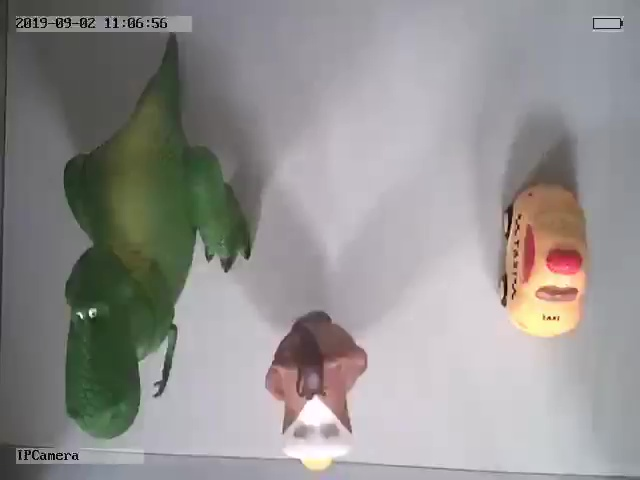car: (499, 182, 589, 338)
horse: (265, 311, 369, 470)
rex: (59, 40, 251, 439)
